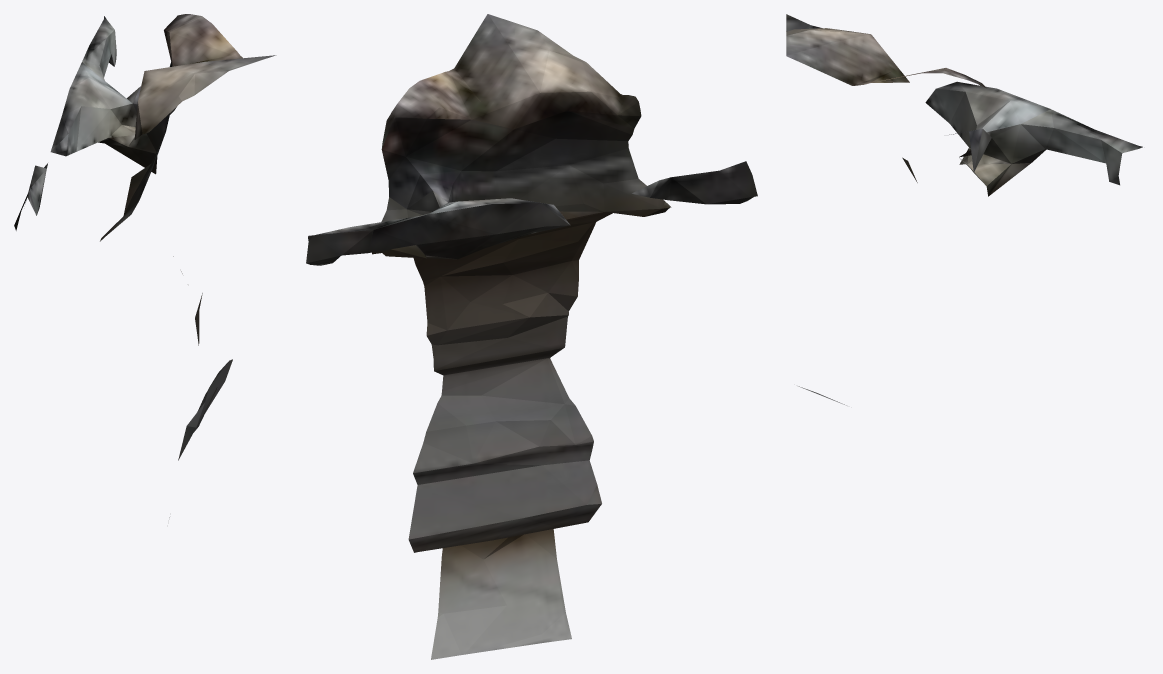
3 renders of one model, left to right at view 1: azimuth 30°, elevation 25°; view 2: azimuth 150°, elevation 25°; view 3: azimuth 270°, elevation 25°, orthographic. The views are drawn at different scales.
Bounding box in the file's own units: 0.4276 × 0.9137 × 0.4972.
Materials: 1 (1 with a texture image).
